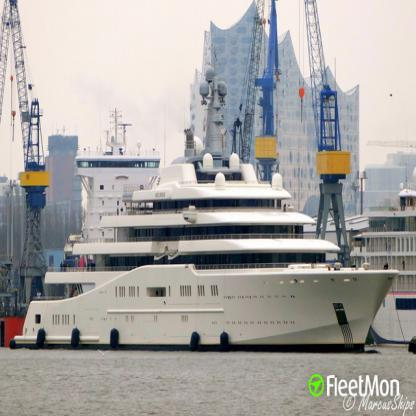Yacht: (9, 69, 399, 352)
